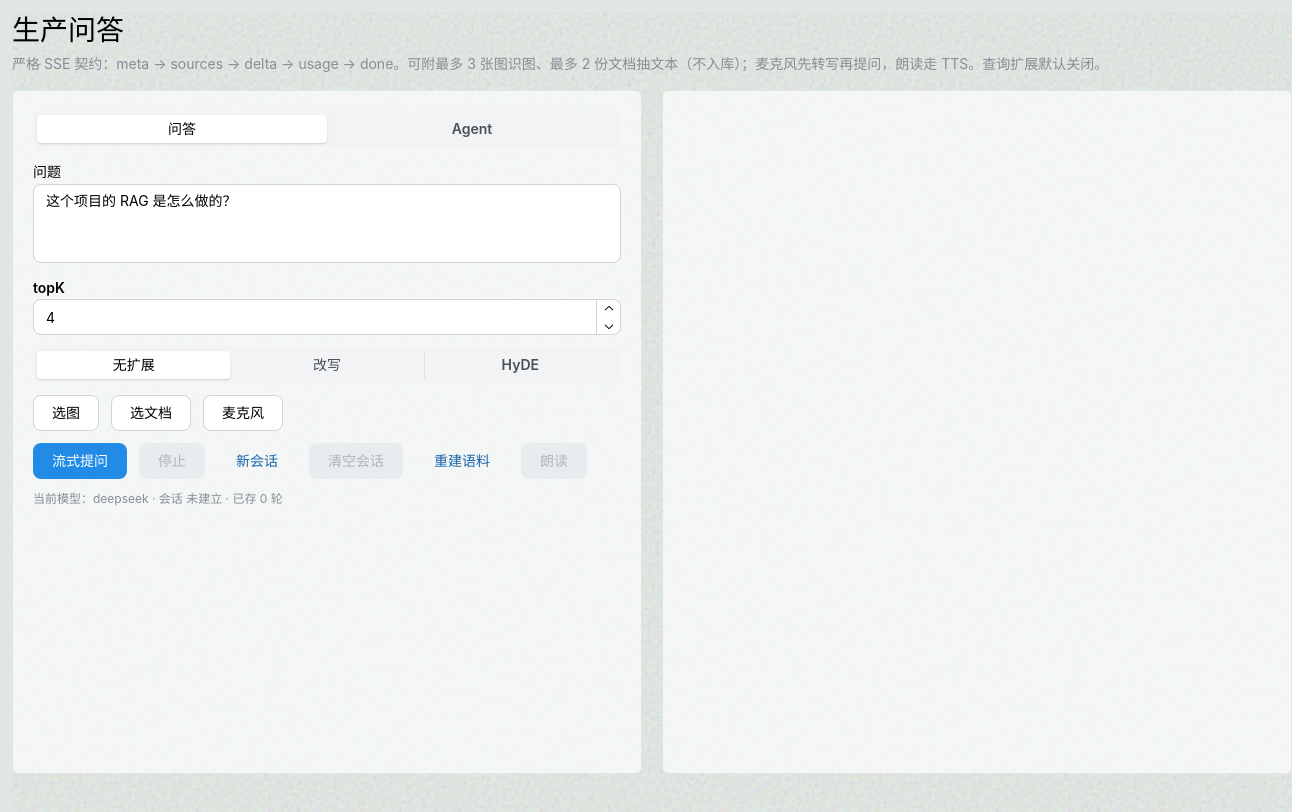
ProductionChatPanel › 中途断流标注结果不完整，而不是当成回答完毕
This screenshot has width=1292, height=812.
Click the button "流式提问" at (80, 461), box x1=33 y1=443 x2=127 y2=479
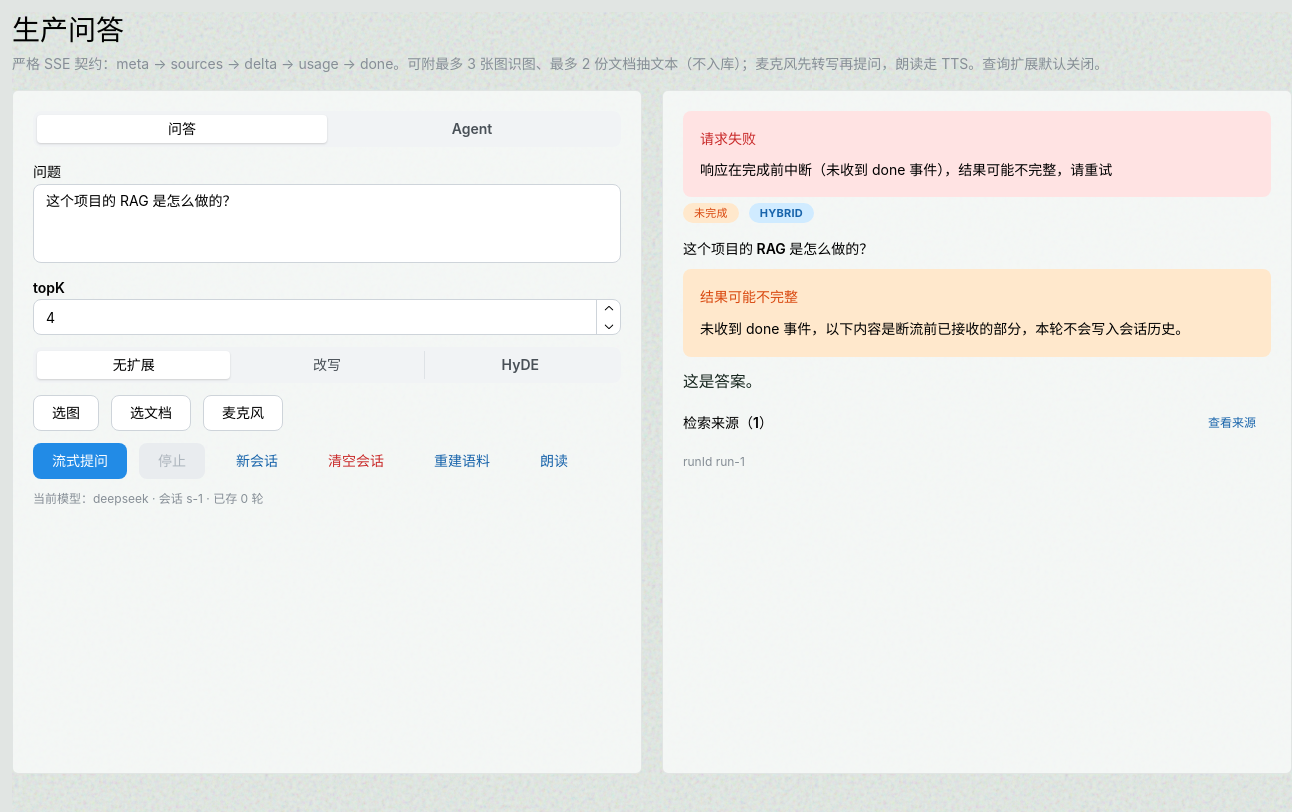
Result: the text "请求失败" is shown at x1=700 y1=128 x2=756 y2=150
Result: the text "这是答案。" is shown at x1=683 y1=372 x2=761 y2=391
